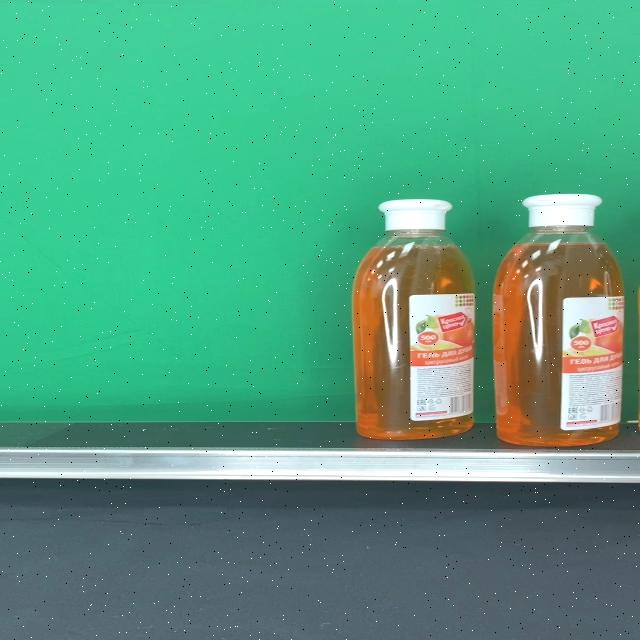Bottle: (494, 194, 624, 446), (354, 198, 476, 440)
Cap: (522, 195, 604, 228), (378, 199, 452, 229)
